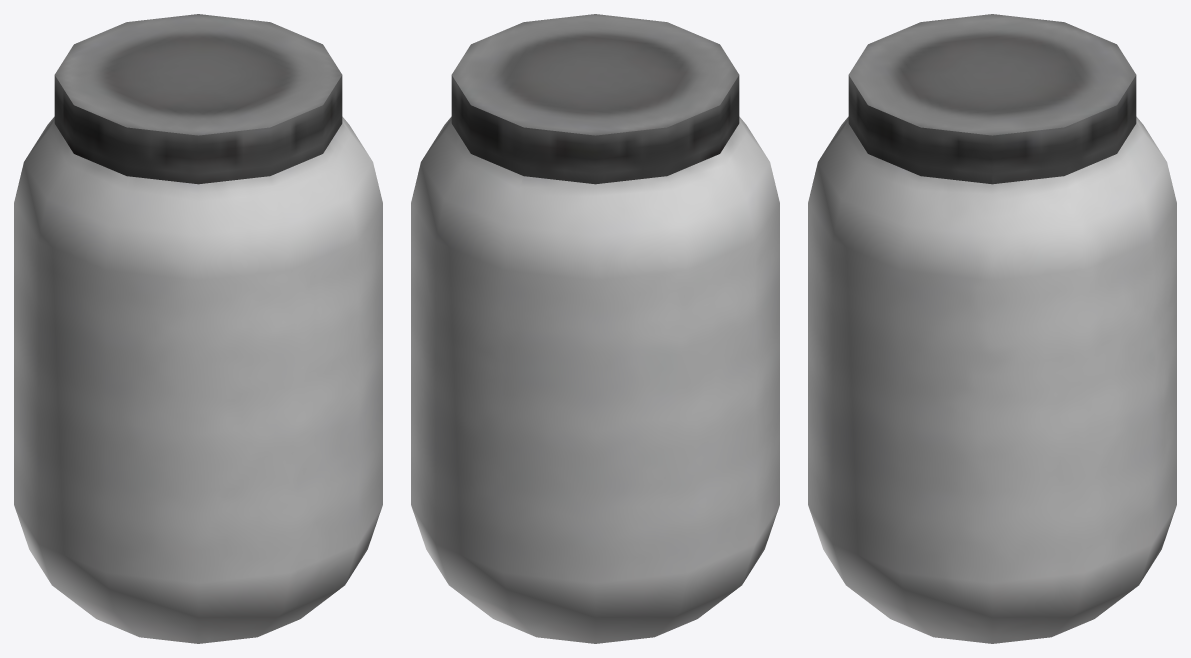
The model's file is Pfb_WaterButts__5.fbx.
3 views of the same model, side by side, from view 1: azimuth 30°, elevation 25°; view 2: azimuth 150°, elevation 25°; view 3: azimuth 270°, elevation 25° (orthographic).
Visible parts, largest first — view 1: Mat_WaterTankButt_01_G; view 2: Mat_WaterTankButt_01_G; view 3: Mat_WaterTankButt_01_G.
Part boxes in pixels (<box>): Mat_WaterTankButt_01_G: <box>14,14,382,643</box>; Mat_WaterTankButt_01_G: <box>411,14,779,643</box>; Mat_WaterTankButt_01_G: <box>808,14,1176,643</box>.
Bounding box in the file's own units: 0.798 × 1.24 × 0.798.
Materials: 1 (1 with a texture image).
